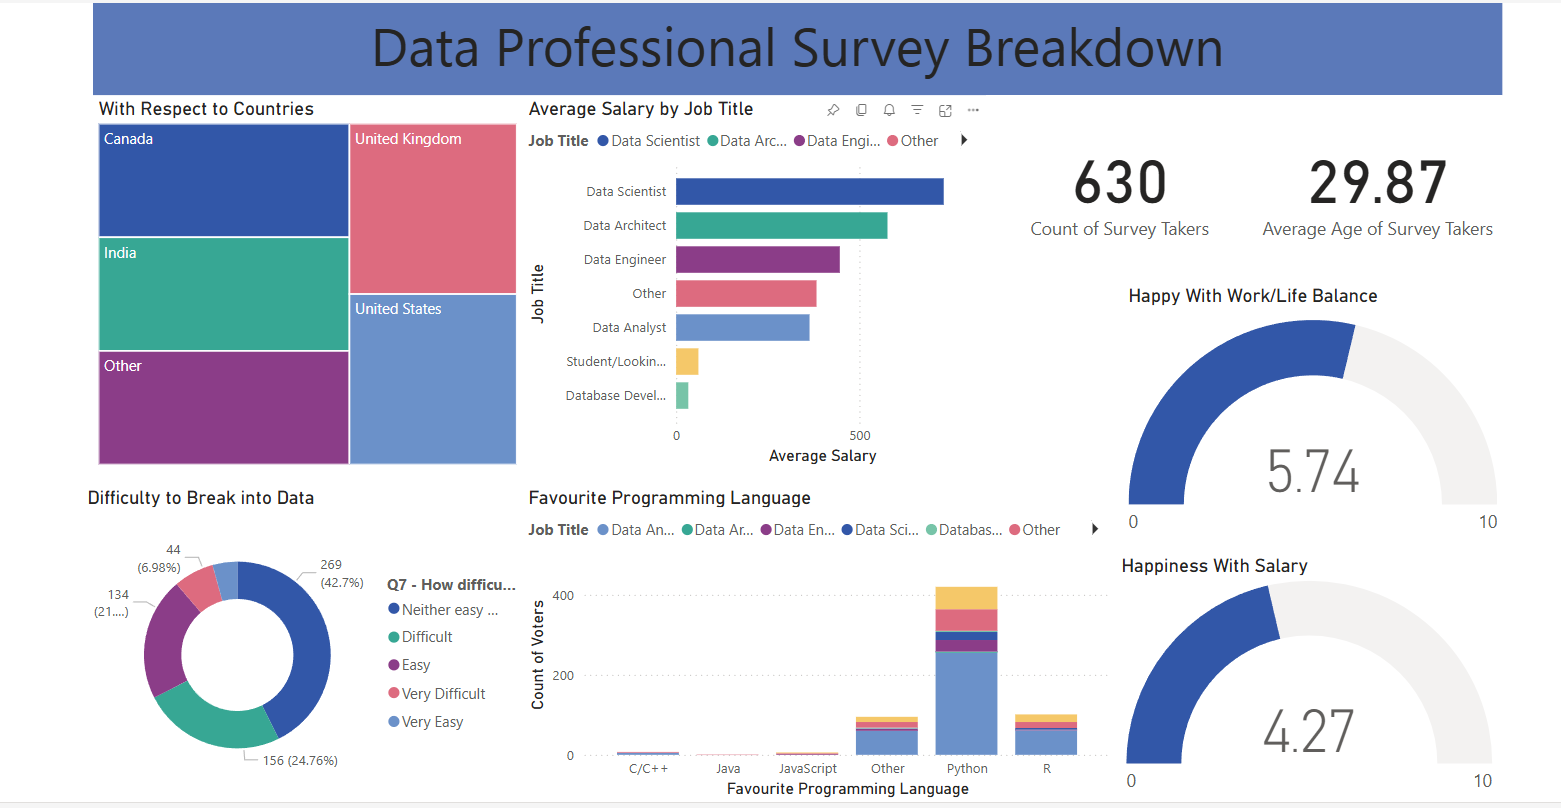

The dashboard page shown, as its layout file describes it:
{"tool":"powerbi","page":{"name":"Page 1","canvas":[1280,720],"ordinal":0},"visuals":[{"type":"textbox","box":[10.1,0,1269.9,83],"z":0},{"type":"card","fields":{"Values":["CountNonNull(Data Professional Survey.Unique ID)"]},"box":[814.2,83,241,164.1],"z":1000},{"type":"card","fields":{"Values":["Avg(Data Professional Survey.Q10 - Current Age)"]},"box":[1055.2,83,224.8,164.1],"z":1001},{"type":"barChart","title":"Average Salary by Job Title","fields":{"Category":["Data Professional Survey.Q1 - Which Title Best Fits your Current Role?.1"],"Y":["Avg(Data Professional Survey.Average Salary)"],"Series":["Data Professional Survey.Q1 - Which Title Best Fits your Current Role?.1"]},"box":[397,85.1,417.2,336.2],"z":1002},{"type":"columnChart","title":"Favourite Programming Language","fields":{"Category":["Data Professional Survey.Q5 - Favorite Programming Language.1"],"Y":["CountNonNull(Data Professional Survey.Unique ID)"],"Series":["Data Professional Survey.Q1 - Which Title Best Fits your Current Role?.1"]},"box":[397,435.4,534.7,285.6],"z":1003},{"type":"treemap","title":"With Respect to Countries","fields":{"Group":["Data Professional Survey.Q11 - Which Country do you live in?.1"],"Values":["Count(Data Professional Survey.Q11 - Which Country do you live in?.1)"]},"box":[10.1,85.1,386.8,336.2],"z":1004},{"type":"gauge","title":"Happy With Work/Life Balance","fields":{"Y":["Avg(Data Professional Survey.Q6 - How Happy are you in your Current Position with the following? (Work/Life Balance))"],"MinValue":["Min(Data Professional Survey.Q6 - How Happy are you in your Current Position with the following? (Work/Life Balance))1"],"MaxValue":["Max(Data Professional Survey.Q6 - How Happy are you in your Current Position with the following? (Work/Life Balance))2"]},"box":[937.7,253.2,342.3,243],"z":1005},{"type":"gauge","title":"Happiness With Salary","fields":{"Y":["Avg(Data Professional Survey.Q6 - How Happy are you in your Current Position with the following? (Salary))"],"MinValue":["Min(Data Professional Survey.Q6 - How Happy are you in your Current Position with the following? (Salary))"],"MaxValue":["Max(Data Professional Survey.Q6 - How Happy are you in your Current Position with the following? (Salary))"]},"box":[931.6,496.2,348.4,224.8],"z":1006},{"type":"donutChart","title":"Difficulty to Break into Data","fields":{"Category":["Data Professional Survey.Q7 - How difficult was it for you to break into Data?"],"Y":["CountNonNull(Data Professional Survey.Q7 - How difficult was it for you to break into Data?)"]},"box":[0,435.4,397,285.6],"z":1007}]}

Visuals, with their boxes on the page's 1280x720 design canvas (x1, y1, x2, y2). These are canvas units, not pixel positions in the 1561x808 screenshot, which may show the page scaled, cropped or inside an application window:
textbox: [10,0,1280,83]
card - CountNonNull(Data Professional Survey.Unique ID): [814,83,1055,247]
card - Avg(Data Professional Survey.Q10 - Current Age): [1055,83,1280,247]
"Average Salary by Job Title" barChart: [397,85,814,421]
"Favourite Programming Language" columnChart: [397,435,932,721]
"With Respect to Countries" treemap: [10,85,397,421]
"Happy With Work/Life Balance" gauge: [938,253,1280,496]
"Happiness With Salary" gauge: [932,496,1280,721]
"Difficulty to Break into Data" donutChart: [0,435,397,721]
